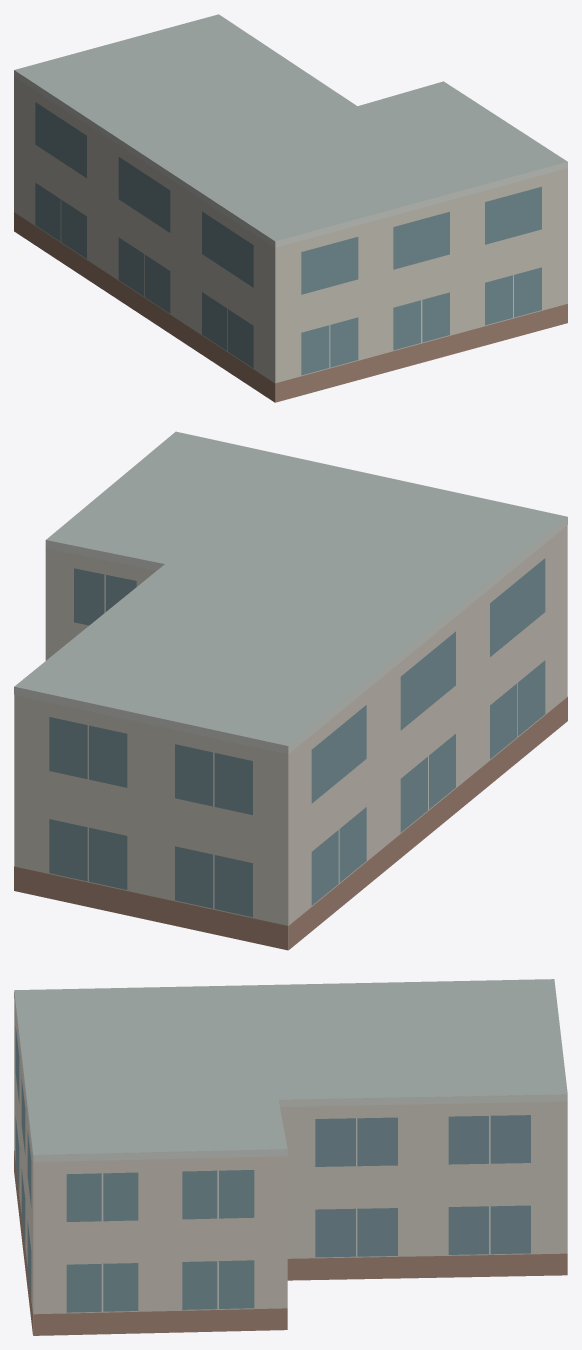
Rendered from survey-upis-32869687.glb.
3 renders of one model, top to bottom at view 1: azimuth 30°, elevation 25°; view 2: azimuth 150°, elevation 25°; view 3: azimuth 270°, elevation 25°, orthographic. The views are drawn at different scales.
Parts seen in each view (by area): view 1: survey-upis-32869687.tmp; view 2: survey-upis-32869687.tmp; view 3: survey-upis-32869687.tmp.
Boxes of the visible parts, left/top/right/bottom form: survey-upis-32869687.tmp: left=14, top=14, right=567, bottom=402; survey-upis-32869687.tmp: left=14, top=431, right=567, bottom=950; survey-upis-32869687.tmp: left=14, top=979, right=567, bottom=1335.
Size of the model in its own units: 12.73 by 6.1 by 16.93.
